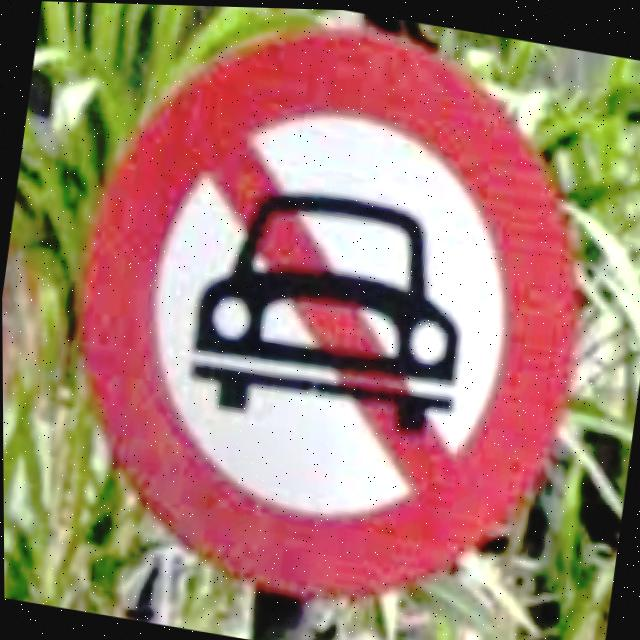nocar: (73, 23, 589, 605)
